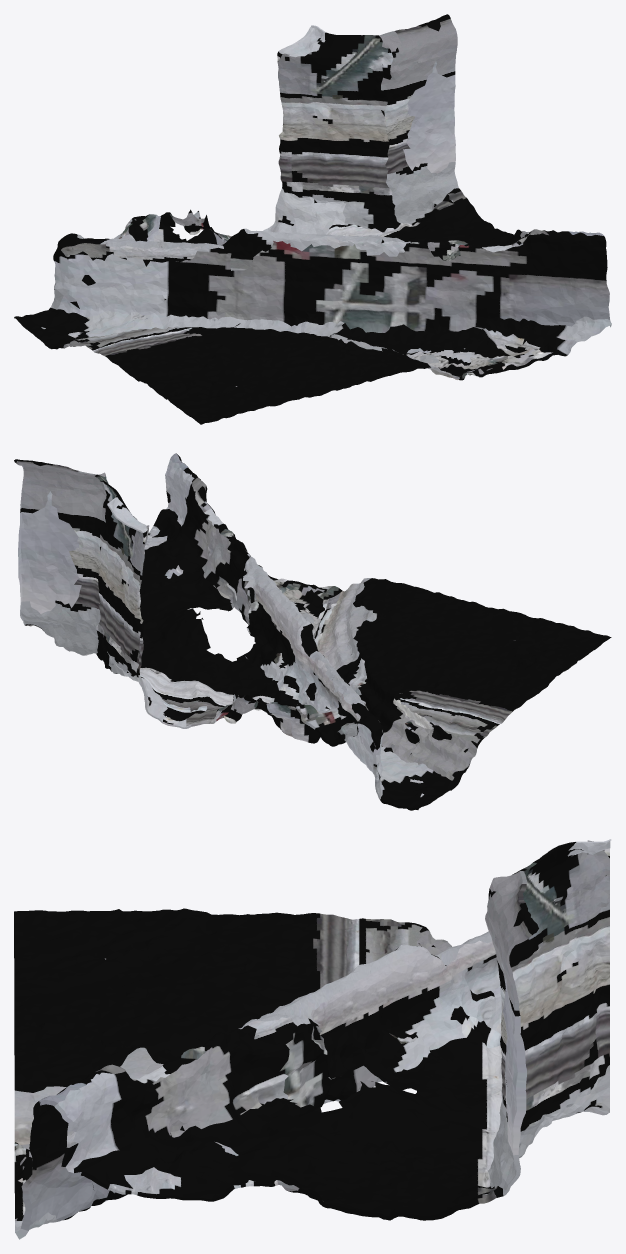
The picture shows the model from 3 angles, top to bottom: view 1: azimuth 30°, elevation 25°; view 2: azimuth 150°, elevation 25°; view 3: azimuth 270°, elevation 25°; orthographic projection. The views are drawn at different scales.
Visible parts, largest first — view 1: node_8; view 2: node_8; view 3: node_8.
Part boxes in pixels (x1,y1,x2,y2): node_8: (14, 14, 611, 424); node_8: (14, 453, 611, 810); node_8: (14, 839, 611, 1239).
Size of the model in its own units: 9.46 by 4.92 by 7.43.
Materials: 1 (1 with a texture image).
